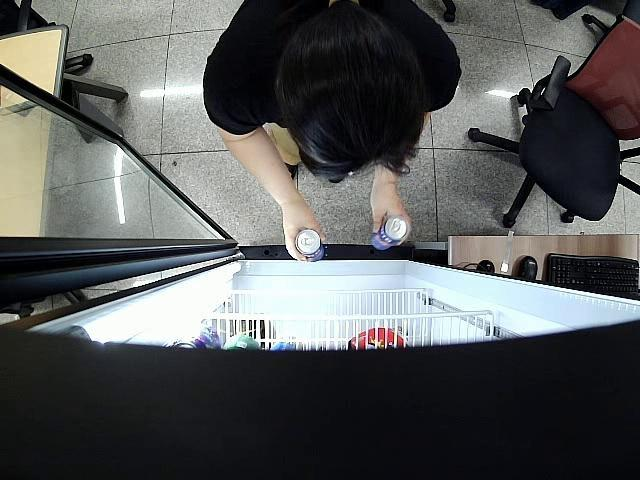16_hot6: (367, 216, 408, 250), (296, 230, 328, 264)
